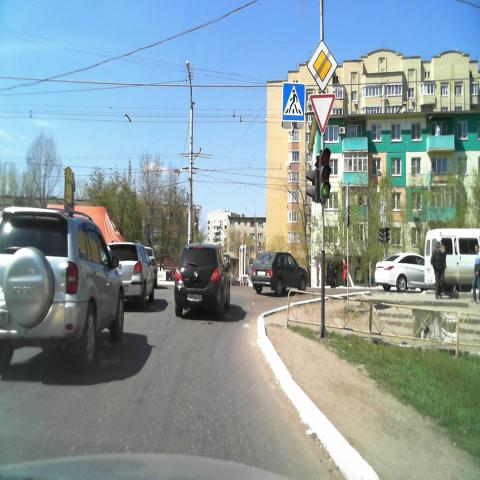2_2: (306, 39, 338, 92)
